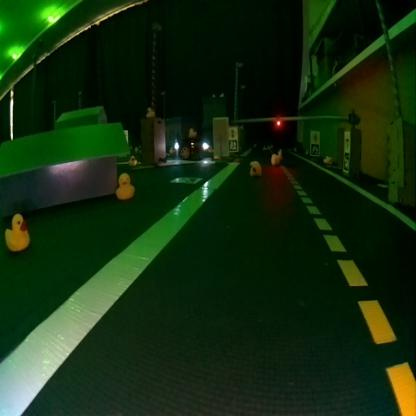Duckie: (4, 213, 30, 250), (116, 172, 134, 197), (249, 160, 261, 171), (145, 107, 155, 117), (272, 153, 279, 165), (324, 155, 332, 164), (188, 127, 196, 136), (129, 155, 136, 164)
Duckiebot: (179, 138, 207, 159)
Intersection sign: (345, 132, 350, 149), (311, 131, 319, 141)
QR code: (170, 175, 202, 184), (310, 143, 318, 156), (228, 139, 237, 150), (345, 152, 349, 172)
